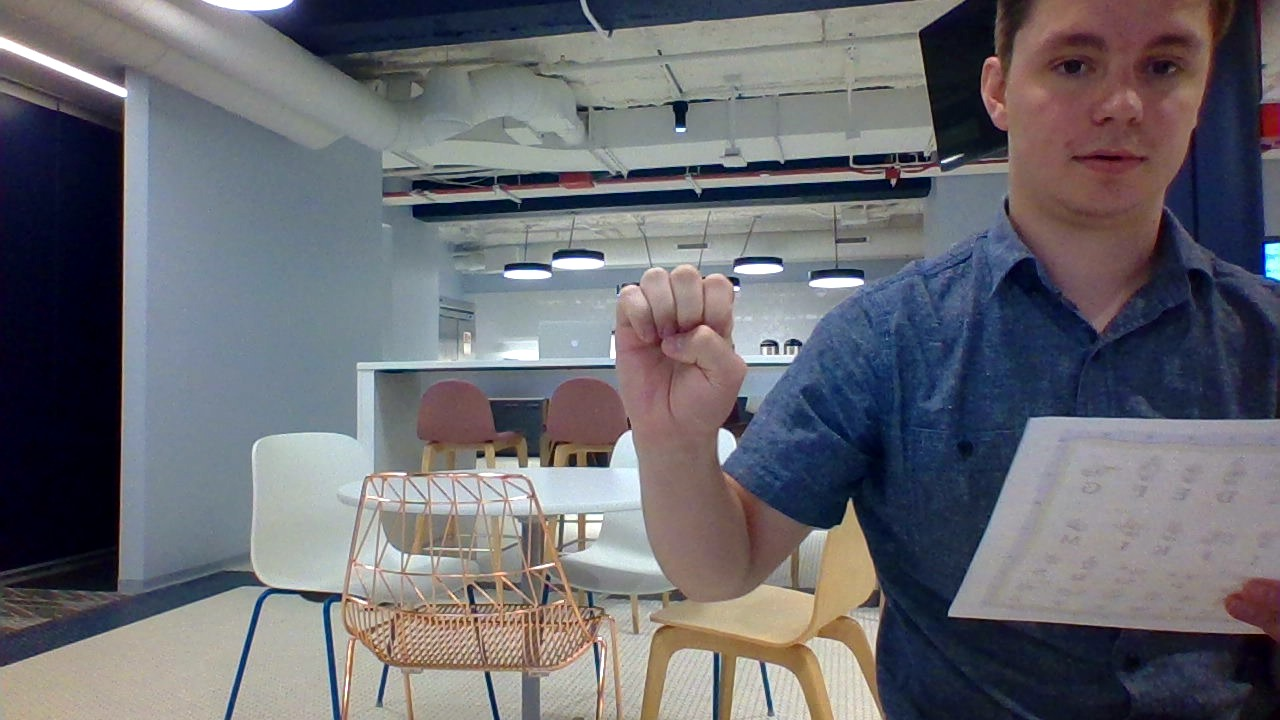e: (597, 249, 758, 459)
